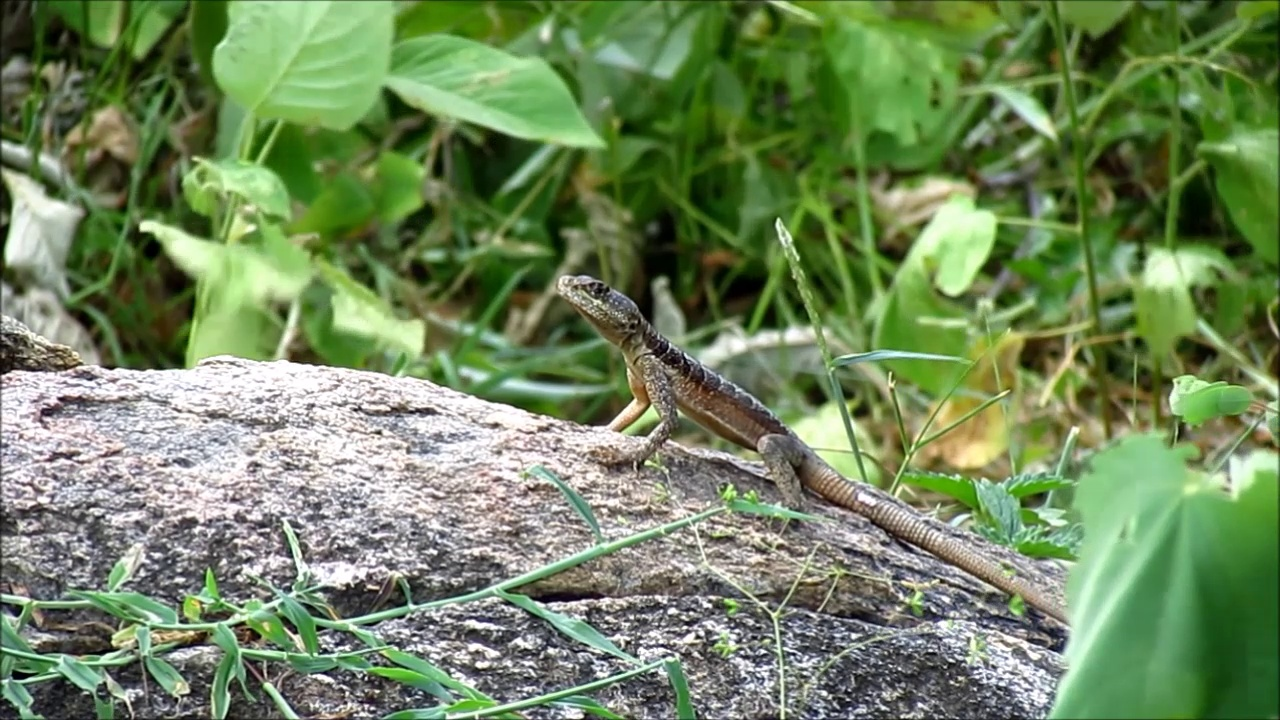body: (587, 314, 1076, 626)
head: (558, 275, 639, 339)
